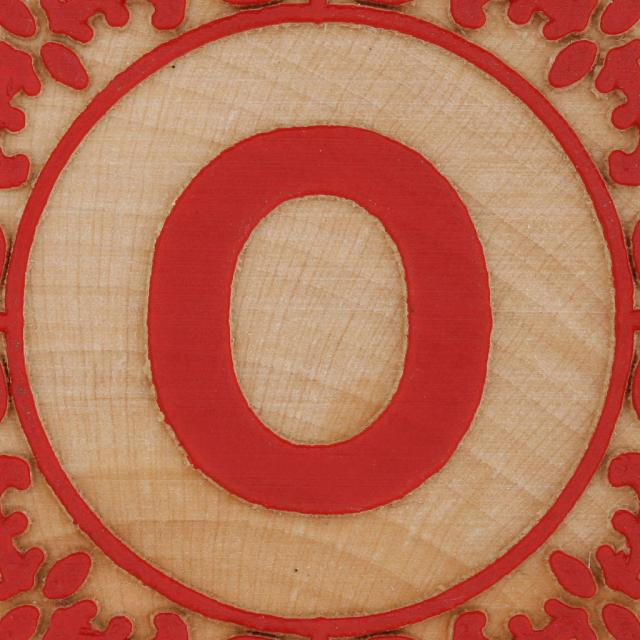O: (127, 108, 502, 530)
